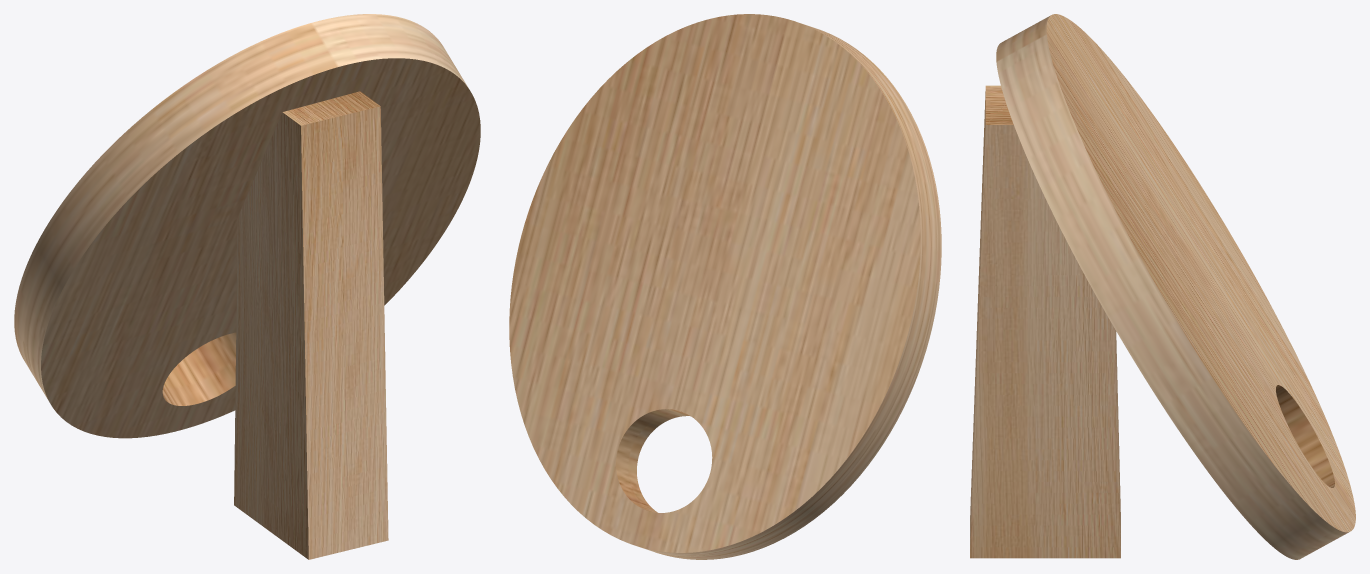
The model's file is drugeot.glb.
3 views of the same model, side by side, from view 1: azimuth 30°, elevation 25°; view 2: azimuth 150°, elevation 25°; view 3: azimuth 270°, elevation 25° (orthographic). The views are drawn at different scales.
Bounding box in the file's own units: 0.1957 × 0.2217 × 0.1534.
1 material, 1 textured.
